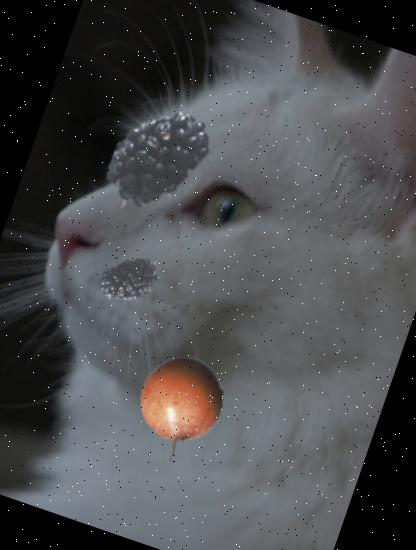Granadilla: (114, 342, 251, 478)
Mulberry: (67, 73, 222, 228), (92, 243, 176, 328)
